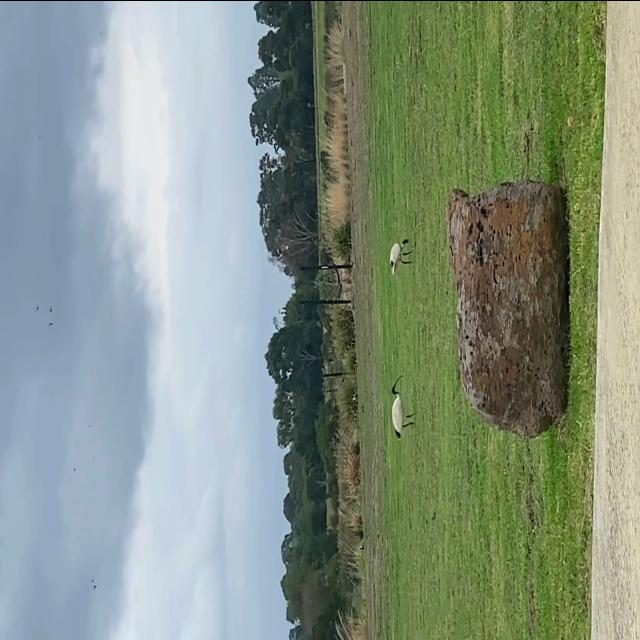Birds-Ibis: (387, 369, 420, 441), (386, 234, 418, 278)
